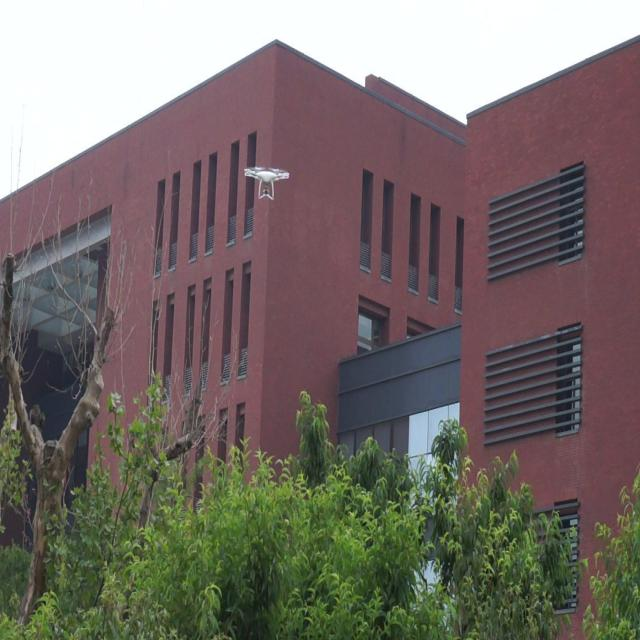UAV: (243, 167, 290, 200)
